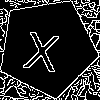X: (22, 22, 63, 73)
